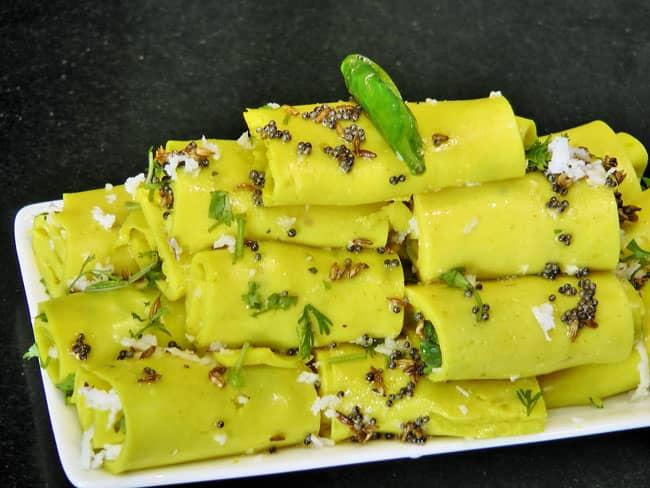khandvi: (40, 108, 650, 464)
